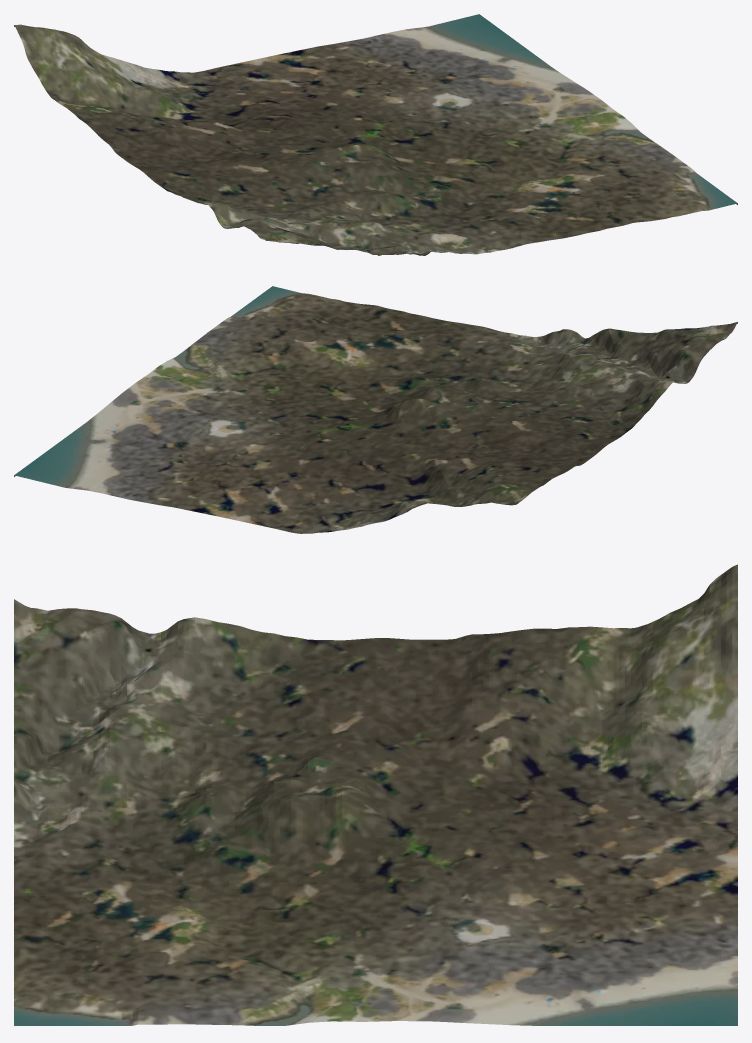
The picture shows the model from 3 angles, top to bottom: view 1: azimuth 30°, elevation 25°; view 2: azimuth 150°, elevation 25°; view 3: azimuth 270°, elevation 25°; orthographic projection. The views are drawn at different scales.
Size of the model in its own units: 250 by 53.69 by 241.
Materials: 1 (1 with a texture image).
